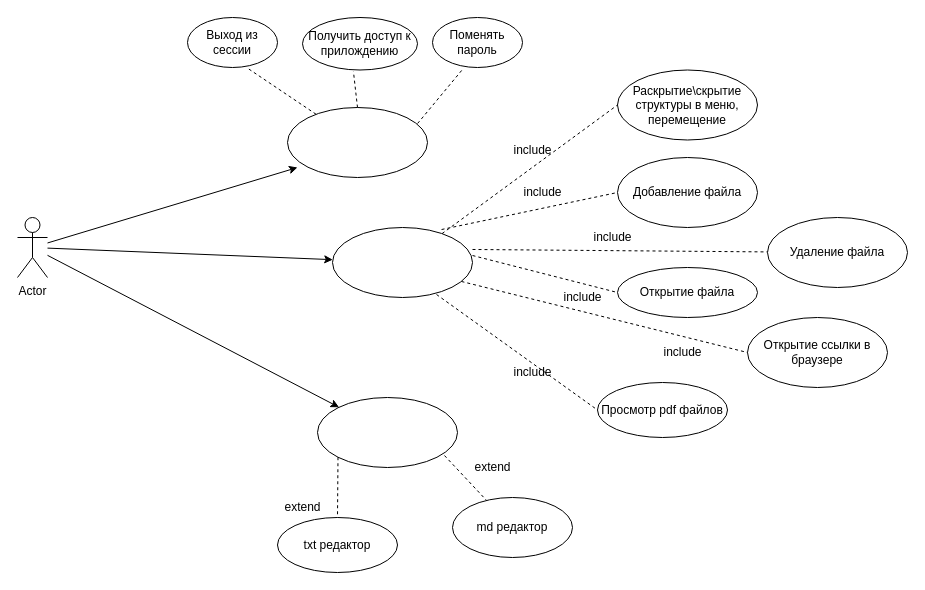
This 925x590 diagram has some shape labels left out. Each missing label, with the centre of its shape:
Авторизация: the point at 357,142
Работа со структурой файлов: the point at 402,262
Редактирование файла: the point at 387,432
